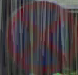No Stopping: (7, 1, 67, 65)
